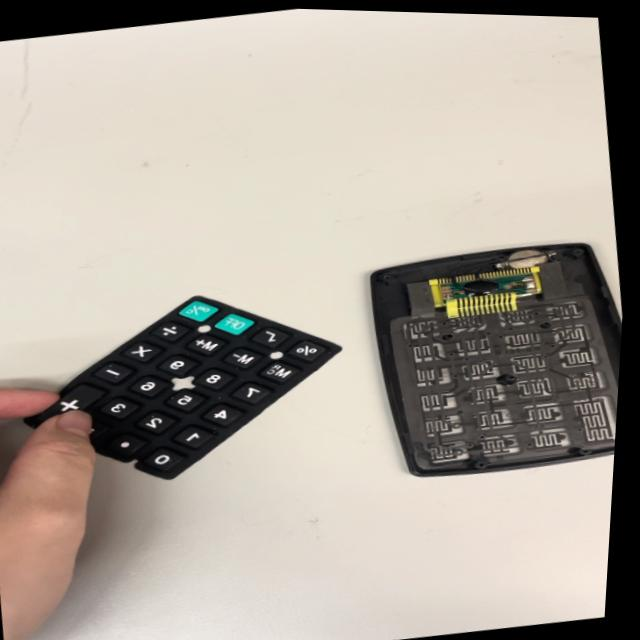front_panel: (354, 214, 628, 496)
number_pad: (2, 261, 371, 505)
